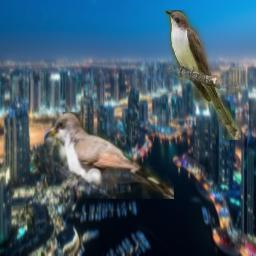Cuckoo: (44, 112, 174, 199), (165, 10, 241, 140)
